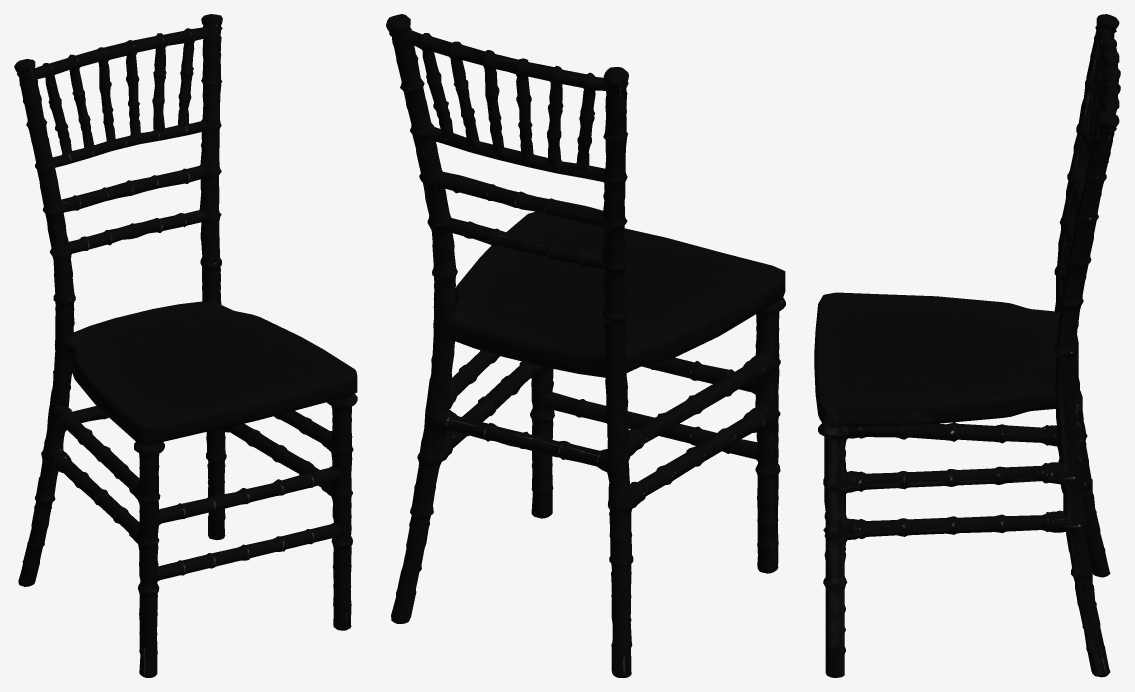
File: Black_Chiavari_Chair_0404022144_texture.glb
The picture shows the model from 3 angles, left to right: view 1: azimuth 30°, elevation 25°; view 2: azimuth 150°, elevation 25°; view 3: azimuth 270°, elevation 25°; orthographic projection. The views are drawn at different scales.
Visible parts, largest first — view 1: Mesh_0.002; view 2: Mesh_0.002; view 3: Mesh_0.002.
Part boxes in pixels (x1=…): Mesh_0.002: x1=14, y1=14, x2=357, y2=677; Mesh_0.002: x1=386, y1=14, x2=785, y2=677; Mesh_0.002: x1=814, y1=14, x2=1120, y2=677.
Bounding box in the file's own units: 0.3622 × 0.8128 × 0.4022.
Materials: 1 (1 with a texture image).
